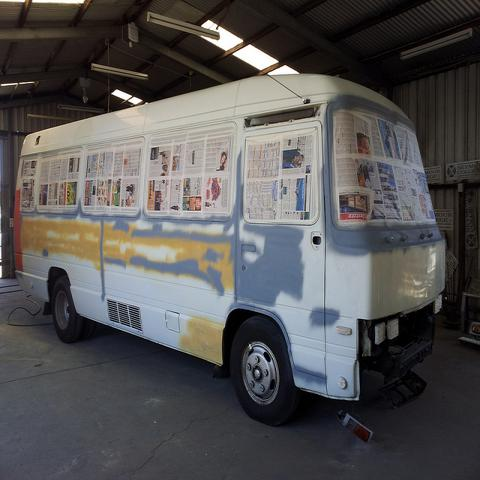bus: (13, 74, 447, 422)
